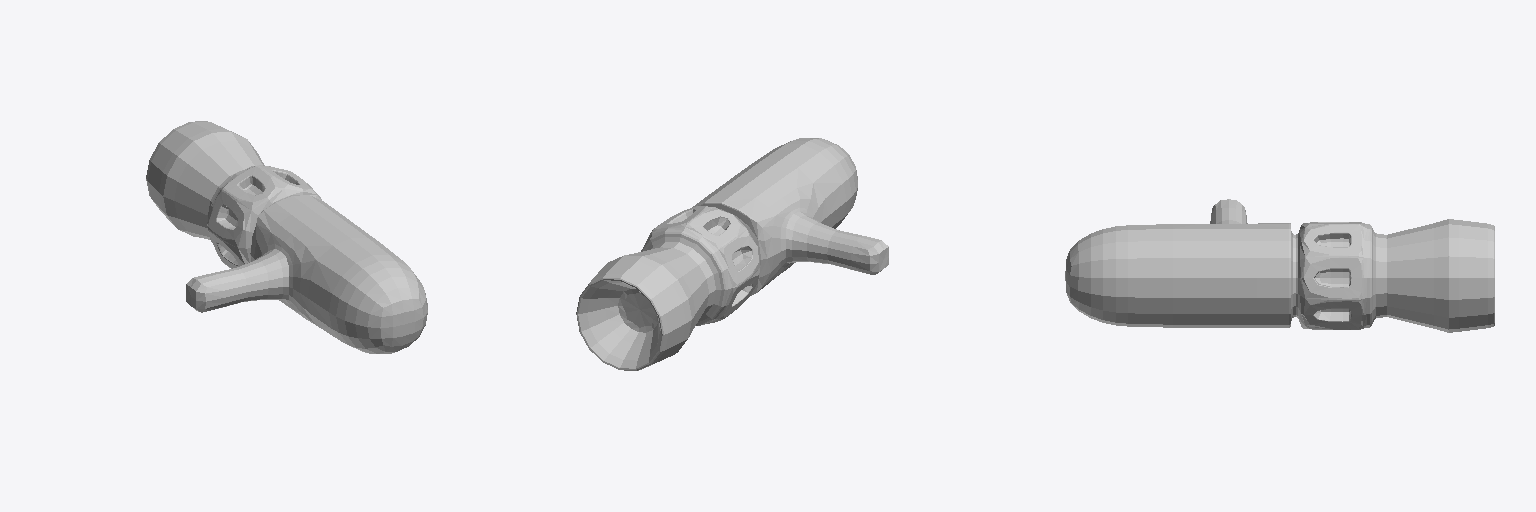
Rendered from Parte4.obj.
3 views of the same model, side by side, from view 1: azimuth 30°, elevation 25°; view 2: azimuth 150°, elevation 25°; view 3: azimuth 270°, elevation 25° (orthographic).
Parts seen in each view (by area): view 1: Turbinas.002_Cylinder.002; view 2: Turbinas.002_Cylinder.002; view 3: Turbinas.002_Cylinder.002.
Boxes of the visible parts, box(x1,y1,x2,y2) form: Turbinas.002_Cylinder.002: box(146, 121, 427, 353); Turbinas.002_Cylinder.002: box(576, 138, 888, 370); Turbinas.002_Cylinder.002: box(1065, 199, 1494, 332).
Bounding box in the file's own units: 1.98 × 1.08 × 4.06.